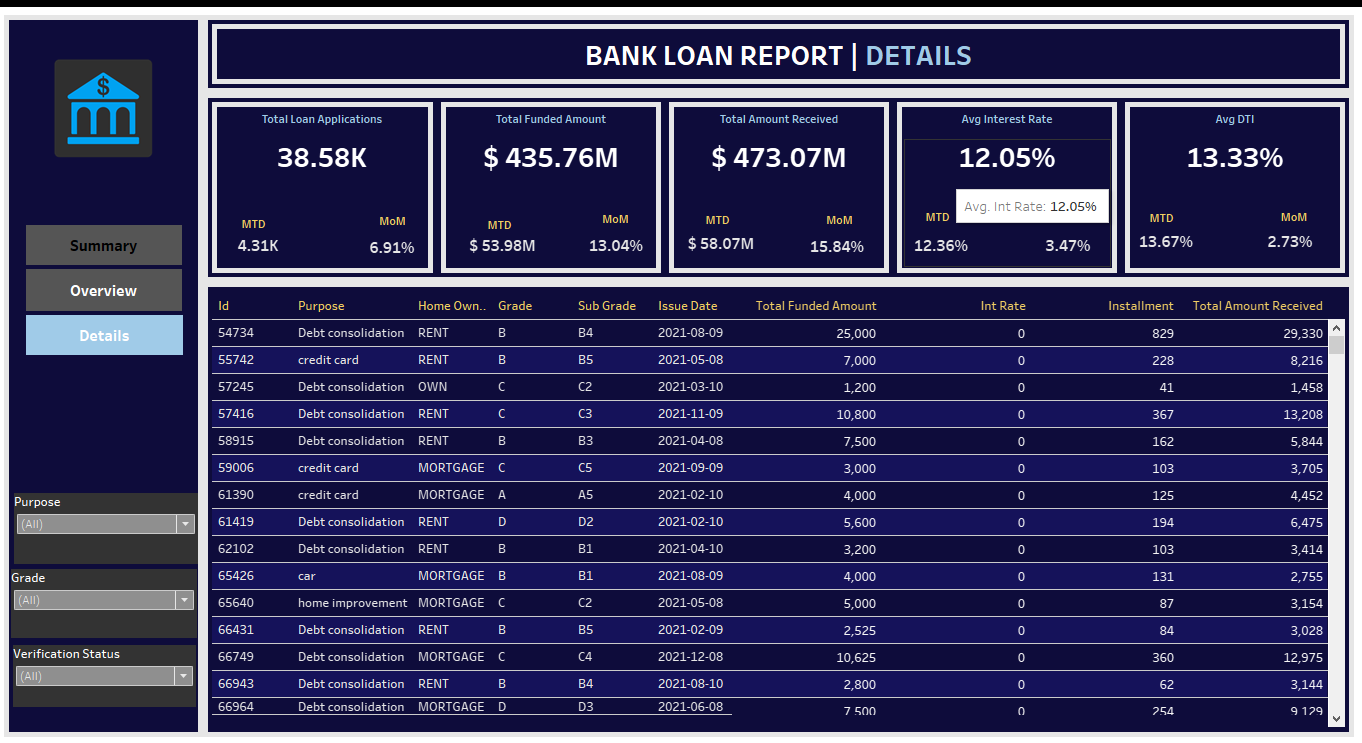

Layout of this report page (visuals, bound fields, positions):
{"tool":"tableau","page":{"name":"DETAILS","canvas":[1000,1000],"units":"permille","ordinal":0},"visuals":[{"type":"text","box":[156.6,22,832.2,87.8]},{"type":"image","param":"Image/pngtree-bank-icon-white-background-png-image_10798288.png","box":[33.8,35.5,89.2,204.4]},{"type":"worksheet","title":"Total Loan Applications","mark":"Automatic","box":[156.6,126.7,166.4,238.2]},{"type":"worksheet","title":"Total Funded Amount","mark":"Automatic","box":[323,126.7,166.4,238.2]},{"type":"worksheet","title":"Total Amount Received","mark":"Automatic","box":[489.4,126.7,166.4,238.2]},{"type":"worksheet","title":"Avg Interest Rate","mark":"Automatic","box":[655.8,126.7,166.4,238.2]},{"type":"worksheet","title":"Avg DTI","mark":"Automatic","box":[822.3,126.7,166.4,238.2]},{"type":"text","box":[922.1,261.8,55.4,45.6]},{"type":"text","box":[757.6,263.5,57.1,45.6]},{"type":"worksheet","title":"MTD Total Amount received","mark":"Automatic","box":[497,265.2,66.7,81.1]},{"type":"text","box":[826,265.2,54.6,40.5]},{"type":"text","box":[588.7,266.9,58,42.2]},{"type":"text","box":[665.8,266.9,47.6,35.5]},{"type":"text","box":[267.5,268.6,45.9,42.2]},{"type":"text","box":[502.2,268.6,52,40.5]},{"type":"text","box":[424.2,272,58,30.4]},{"type":"text","box":[168.8,273.7,39,38.9]},{"type":"worksheet","title":"MTD Total Funded Amount","mark":"Automatic","box":[335.9,273.7,66.7,71]},{"type":"worksheet","title":"MTD Avg Interest Rate","mark":"Automatic","box":[643.3,273.7,96.1,71]},{"type":"worksheet","title":"MTD Avg DTI","mark":"Automatic","box":[828.6,273.7,64.9,67.6]},{"type":"text","box":[339.4,277,58,37.2]},{"type":"worksheet","title":"MoM Total Funded Amount","mark":"Automatic","box":[424.2,292.2,58,59.1]},{"type":"worksheet","title":"MoM Total Amount Received","mark":"Automatic","box":[587.9,293.9,57.1,60.8]},{"type":"dashboard-object","box":[21.7,295.6,114.3,54.1]},{"type":"worksheet","title":"MoM Avg Interest Rate","mark":"Automatic","box":[758.4,295.6,55.4,57.4]},{"type":"worksheet","title":"MoM Avg DTI","mark":"Automatic","box":[922.9,297.3,56.3,45.6]},{"type":"worksheet","title":"MTD Total Loan Applications","mark":"Automatic","box":[165.4,302.4,52,40.5]},{"type":"worksheet","title":"MoM Total Loan Applications","mark":"Automatic","box":[265.8,305.7,47.6,37.2]},{"type":"dashboard-object","box":[21.7,354.7,114.3,57.4]},{"type":"worksheet","title":"Details Tab","mark":"Automatic","rows":["id","purpose","home_ownership","grade","sub_grade","issue_date"],"box":[156.6,381.8,832.2,596.3]},{"type":"dashboard-object","box":[21.7,417.2,115.2,54.1]},{"type":"filter","title":"Avg DTI","param":"[federated.0m3zu7s0mpwzpx18f6lww16rja50].[none:purpose:nk]","box":[13,658.8,135.1,96.3]},{"type":"filter","title":"Avg DTI","param":"[federated.0m3zu7s0mpwzpx18f6lww16rja50].[none:grade:nk]","box":[11.3,761.8,135.9,92.9]},{"type":"filter","title":"Avg DTI","param":"[federated.0m3zu7s0mpwzpx18f6lww16rja50].[none:verification_status:nk]","box":[12.1,864.9,134.2,84.5]}]}

Visuals, with their boxes on the dashboard's canvas, which has no fixed pixel size, in thousandths of its width and height (x1, y1, x2, y2). These are canvas units, not pixel positions in the 1362x743 screenshot, which may show the page scaled, cropped or inside an application window:
text: BBox(157, 22, 989, 110)
image: BBox(34, 36, 123, 240)
"Total Loan Applications" worksheet: BBox(157, 127, 323, 365)
"Total Funded Amount" worksheet: BBox(323, 127, 489, 365)
"Total Amount Received" worksheet: BBox(489, 127, 656, 365)
"Avg Interest Rate" worksheet: BBox(656, 127, 822, 365)
"Avg DTI" worksheet: BBox(822, 127, 989, 365)
text: BBox(922, 262, 978, 307)
text: BBox(758, 264, 815, 309)
"MTD Total Amount received" worksheet: BBox(497, 265, 564, 346)
text: BBox(826, 265, 881, 306)
text: BBox(589, 267, 647, 309)
text: BBox(666, 267, 713, 302)
text: BBox(268, 269, 313, 311)
text: BBox(502, 269, 554, 309)
text: BBox(424, 272, 482, 302)
text: BBox(169, 274, 208, 313)
"MTD Total Funded Amount" worksheet: BBox(336, 274, 403, 345)
"MTD Avg Interest Rate" worksheet: BBox(643, 274, 739, 345)
"MTD Avg DTI" worksheet: BBox(829, 274, 894, 341)
text: BBox(339, 277, 397, 314)
"MoM Total Funded Amount" worksheet: BBox(424, 292, 482, 351)
"MoM Total Amount Received" worksheet: BBox(588, 294, 645, 355)
dashboard-object: BBox(22, 296, 136, 350)
"MoM Avg Interest Rate" worksheet: BBox(758, 296, 814, 353)
"MoM Avg DTI" worksheet: BBox(923, 297, 979, 343)
"MTD Total Loan Applications" worksheet: BBox(165, 302, 217, 343)
"MoM Total Loan Applications" worksheet: BBox(266, 306, 313, 343)
dashboard-object: BBox(22, 355, 136, 412)
"Details Tab" worksheet: BBox(157, 382, 989, 978)
dashboard-object: BBox(22, 417, 137, 471)
"Avg DTI" filter: BBox(13, 659, 148, 755)
"Avg DTI" filter: BBox(11, 762, 147, 855)
"Avg DTI" filter: BBox(12, 865, 146, 949)
